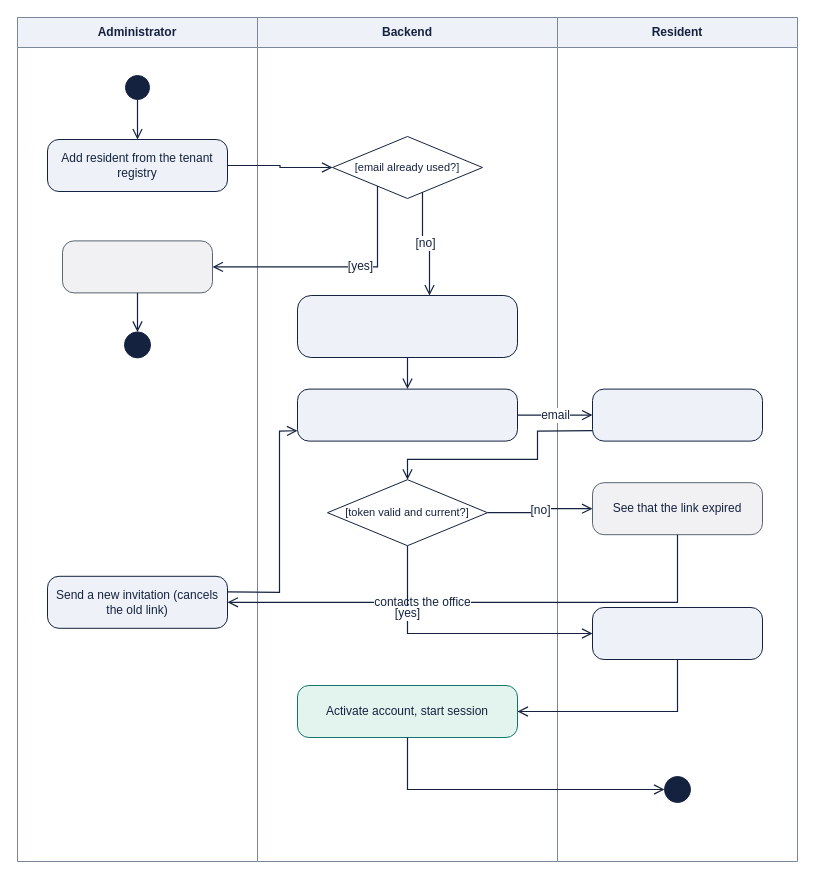
The diagram is 815 pixels wide and 879 high, and some of its shapes have lost their labels. Each missing label, with the centre of its shape:
"Create invited account; store only the token hash; expires in 3 days" goes at point (407, 326).
"Open the link" goes at point (677, 414).
"See the conflict" goes at point (137, 266).
"Send invitation email through the worker" goes at point (407, 414).
"Set password" goes at point (677, 633).
